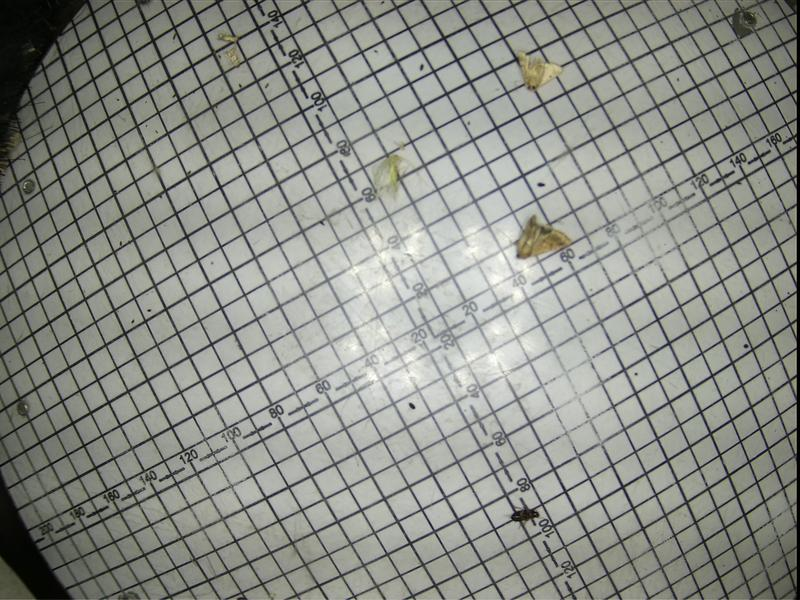Bollworm: (513, 213, 574, 257), (514, 49, 564, 91)
